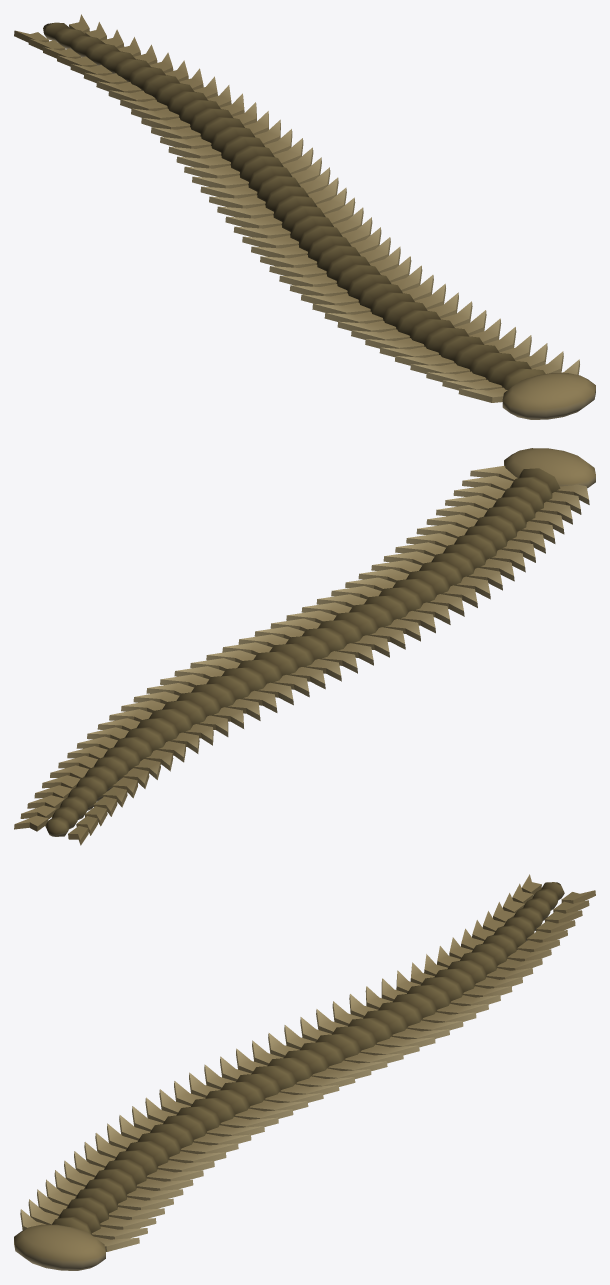
The model's file is Yilingia.fbx.
The picture shows the model from 3 angles, top to bottom: view 1: azimuth 30°, elevation 25°; view 2: azimuth 150°, elevation 25°; view 3: azimuth 330°, elevation 25°; orthographic projection.
Visible parts, largest first — view 1: Yilingia; view 2: Yilingia; view 3: Yilingia.
Part boxes in pixels (x1=…): Yilingia: x1=14, y1=14, x2=595, y2=419; Yilingia: x1=14, y1=448, x2=595, y2=845; Yilingia: x1=14, y1=874, x2=595, y2=1270.
Size of the model in its own units: 0.37 by 0.07 by 2.02.
